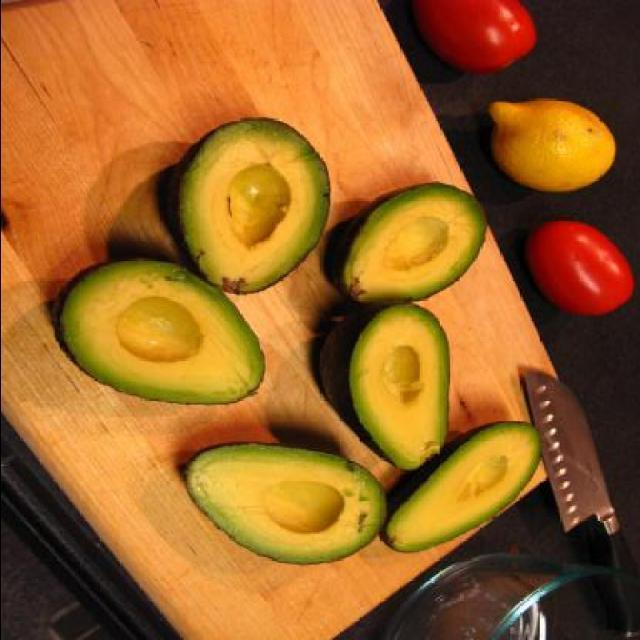Lemon: (494, 91, 612, 191)
